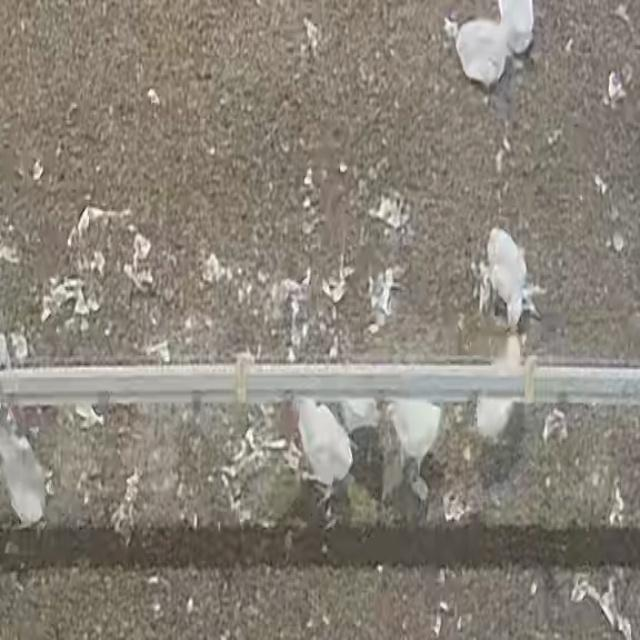chicken: (470, 334, 529, 442), (0, 425, 60, 527), (299, 400, 355, 492), (481, 225, 530, 330), (388, 398, 443, 484), (455, 20, 508, 90), (498, 0, 536, 57)
